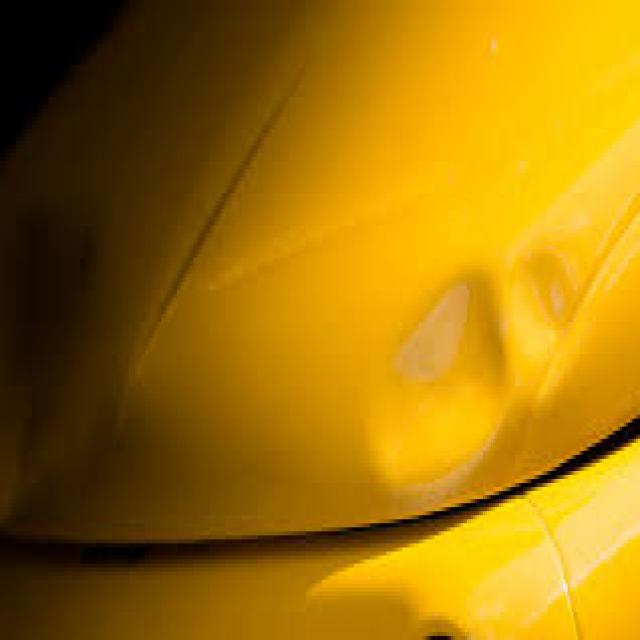minor: (348, 139, 620, 562)
